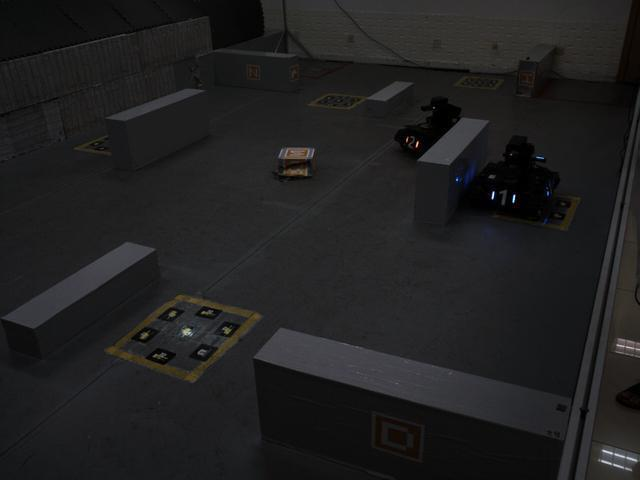armor: (486, 186, 519, 210), (400, 131, 421, 154)
